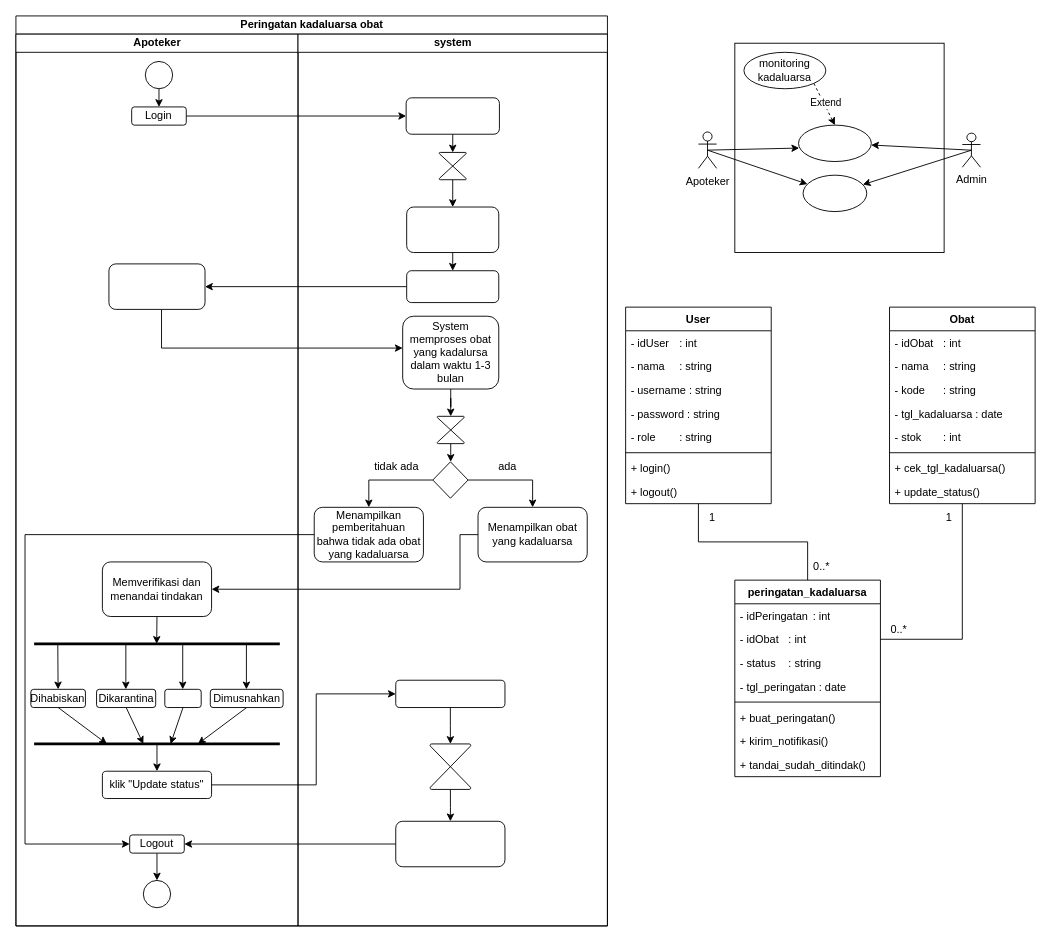
Image size: 1051x942. Some labels were removed from this diagram. The centre of each missing label's shape, as x and y in pixels:
Beri notifikasi: (x=834, y=193)
Cek kadaluarsa: (x=834, y=143)
Level akses diverifikasi sebagai Apoteker: (x=452, y=229)
Memverifikasi level akses: (x=452, y=115)
Menampilkan Dashboard: (x=452, y=286)
Menampilkan konfirmasi update status berhasil: (x=450, y=843)
mengakses menu "Monitoring kadaluarsa: (x=156, y=286)
Retur: (x=182, y=698)
System mengupdate status: (x=450, y=693)
